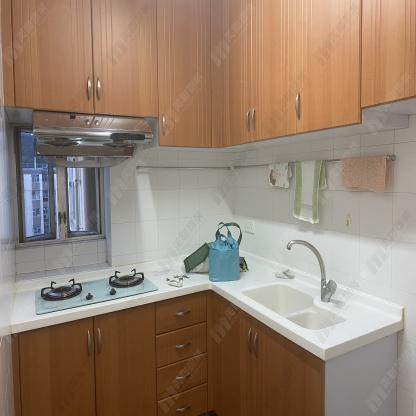Cupboard: (1, 0, 415, 147), (14, 291, 326, 416)
Exhaust Hood: (33, 111, 153, 158)
Sink: (243, 283, 346, 330)
Stove: (37, 269, 158, 313)
